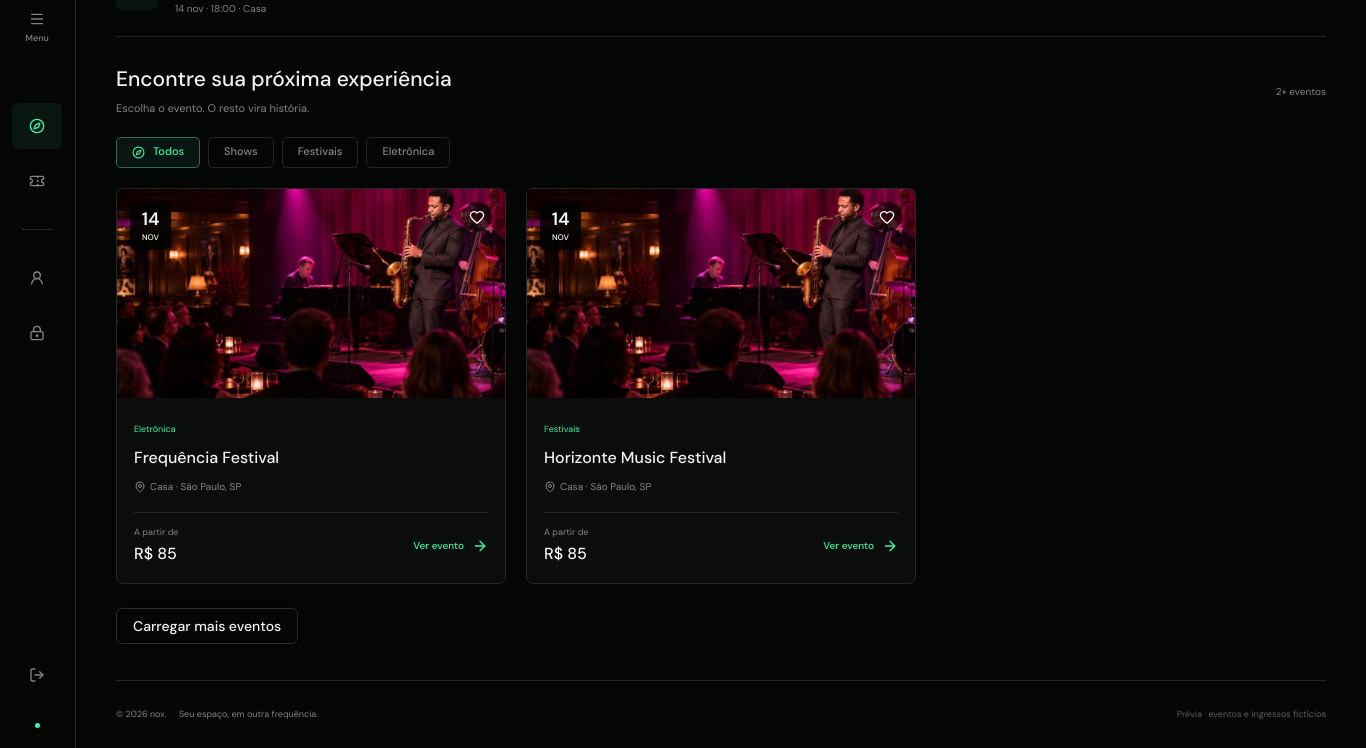
EventHome › loads the next page with the cursor and appends it
This screenshot has width=1366, height=748.
(page scrolled)
Click the button "Carregar mais eventos" at (207, 626), box 116,608 -> 298,644
(page scrolled)
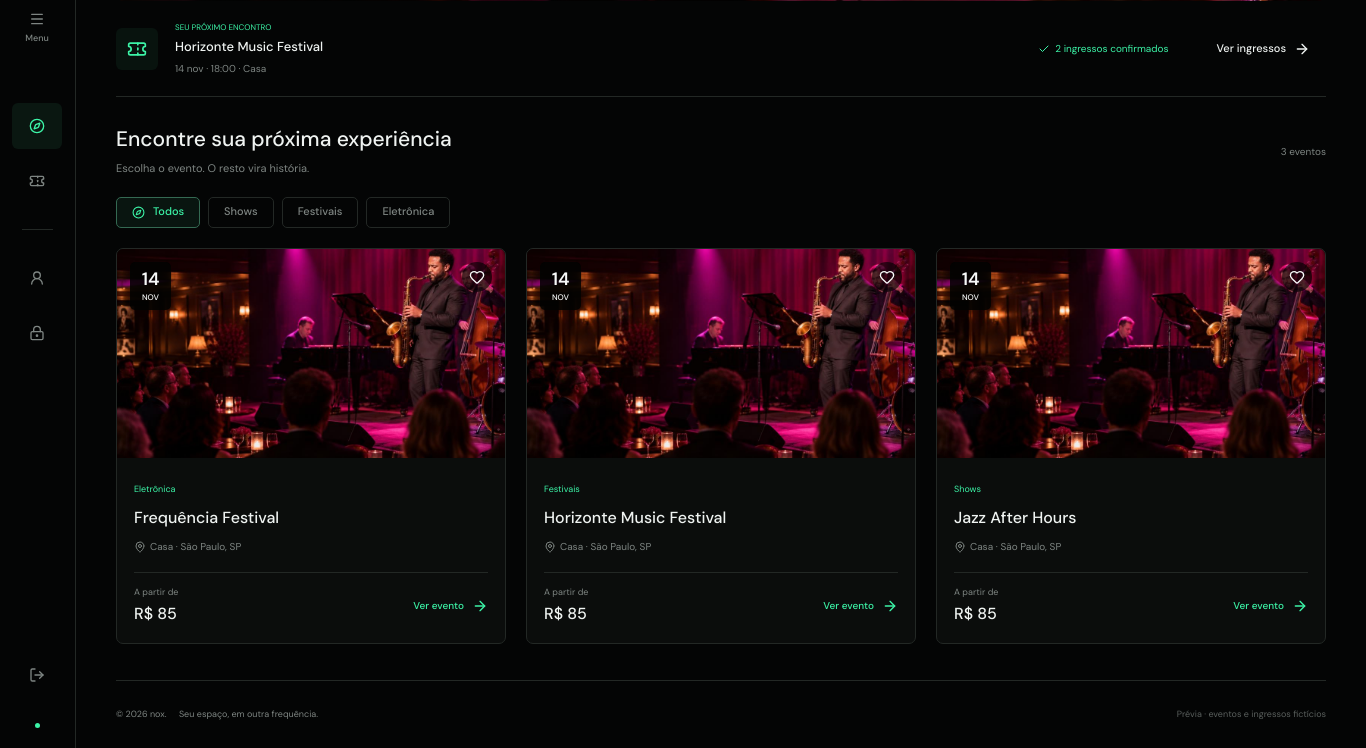
Now the button with aria-label "Ver ingressos de Jazz After Hours" is shown, box 1233,588 -> 1308,624
Now the text "3 eventos" is shown, box 1281,144 -> 1326,159
Now the button "Carregar mais eventos" is gone
